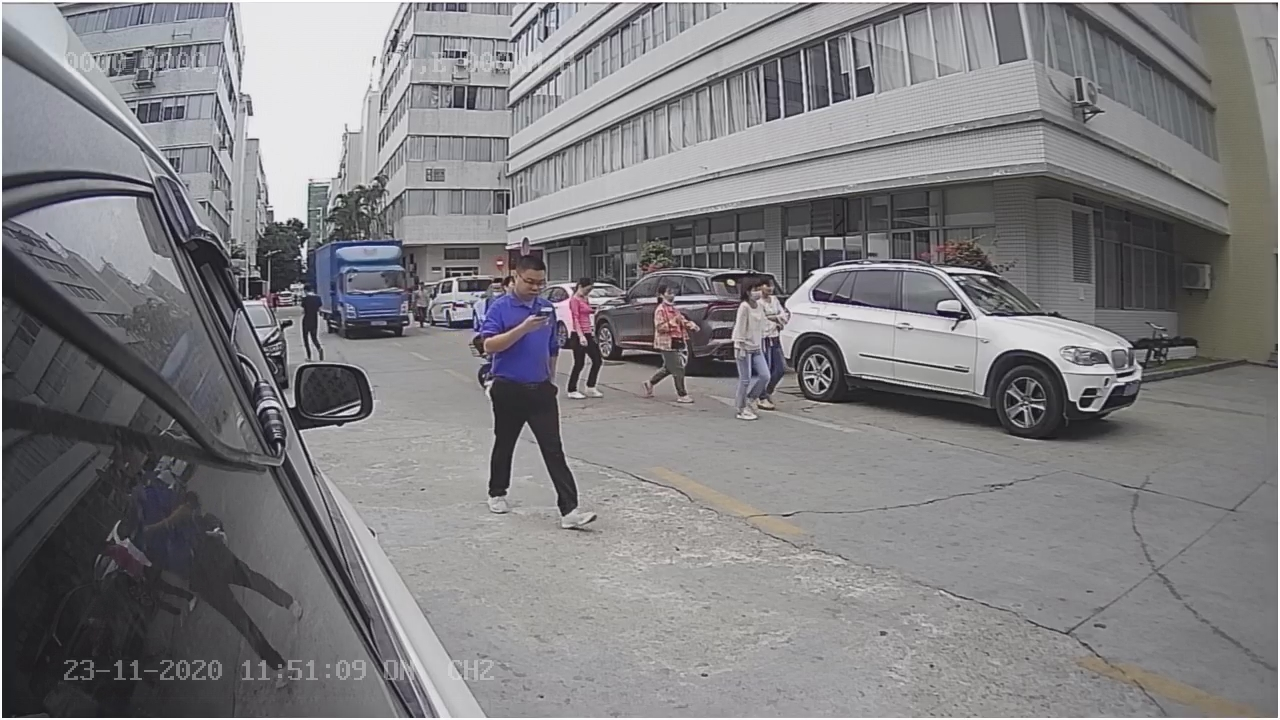person: (475, 254, 600, 529), (639, 278, 699, 404)
